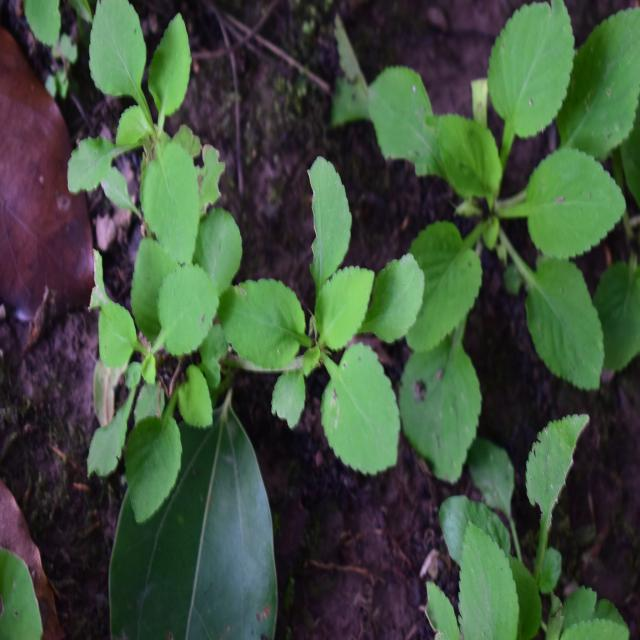Viola: (410, 0, 620, 381), (234, 187, 431, 503)
